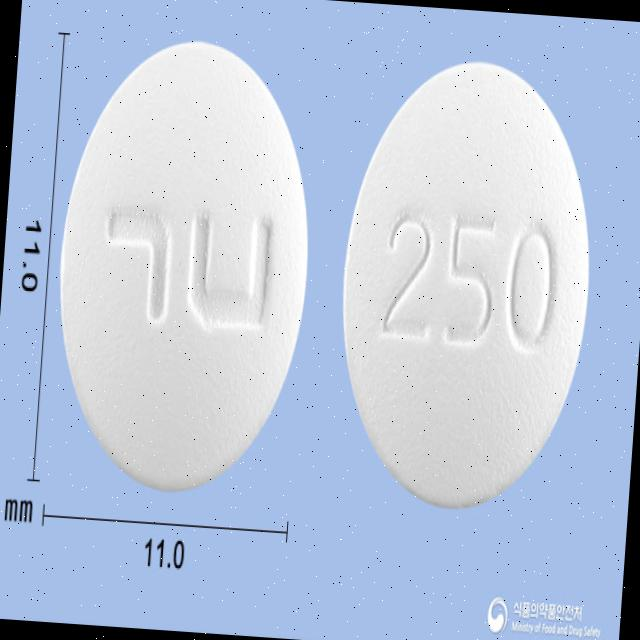Ciquroby: (41, 28, 330, 506), (324, 49, 608, 522)
